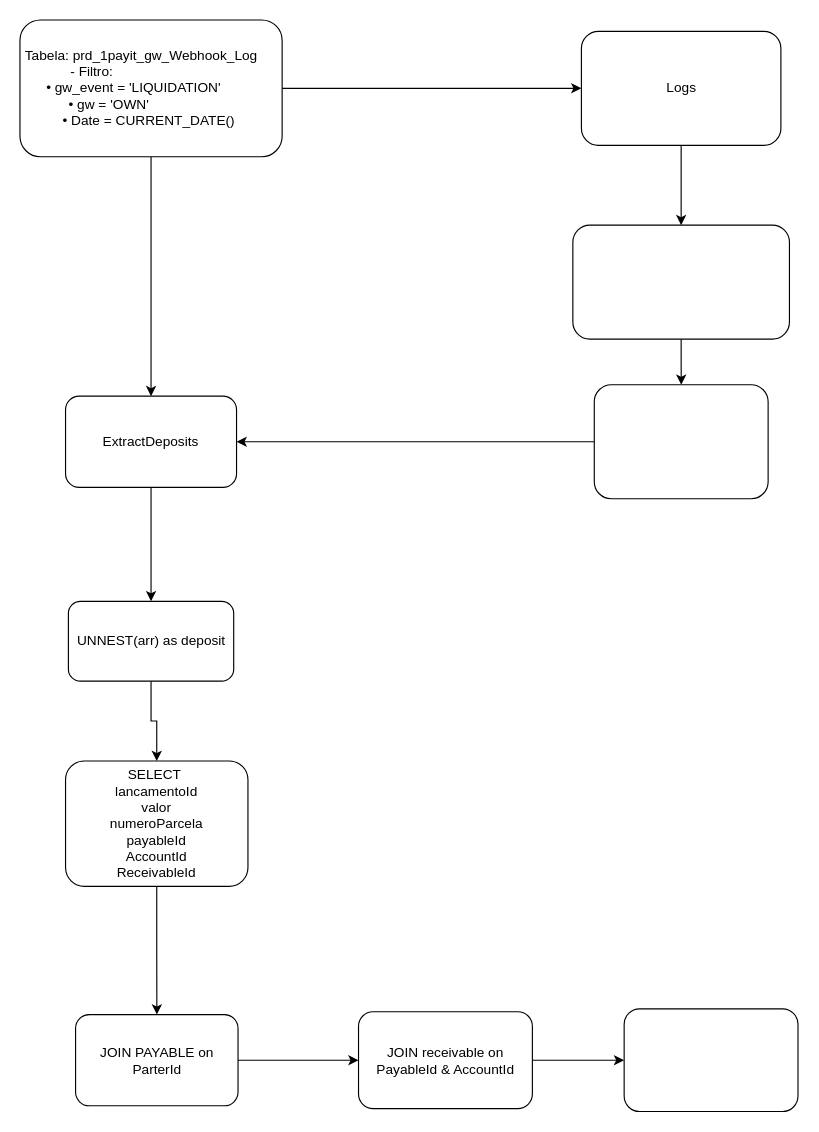
Image size: 819x1132. Some labels were removed from this diagram. The centre of each missing label's shape, as x and y in pixels:
PARSE_JSON do Payload: pixel 680 281
Select JSON_VALUES $.lancamentoId $.valor $.numeroParcela: pixel 680 441
SELECT payableId AccountId Receivable_Id: pixel 710 1060
